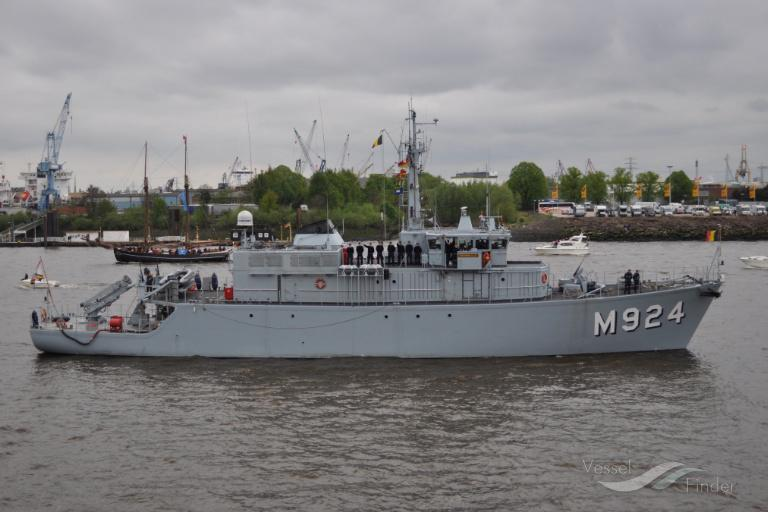OCR: (580, 297, 684, 344)
